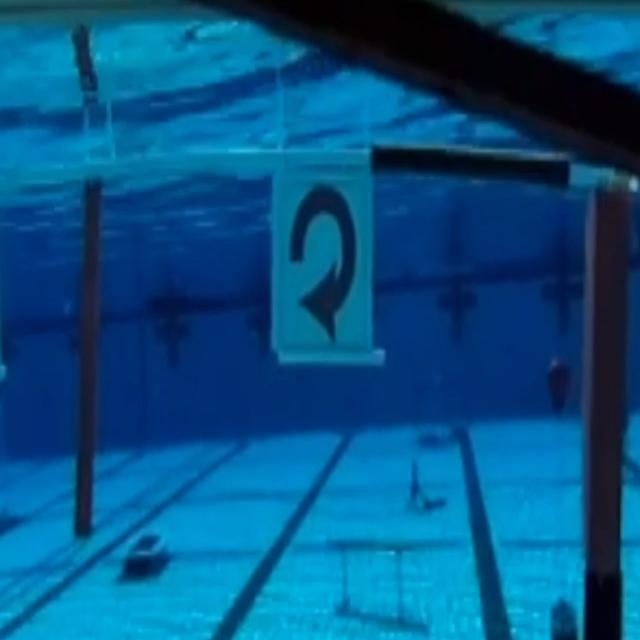Gate: (16, 145, 626, 640)
